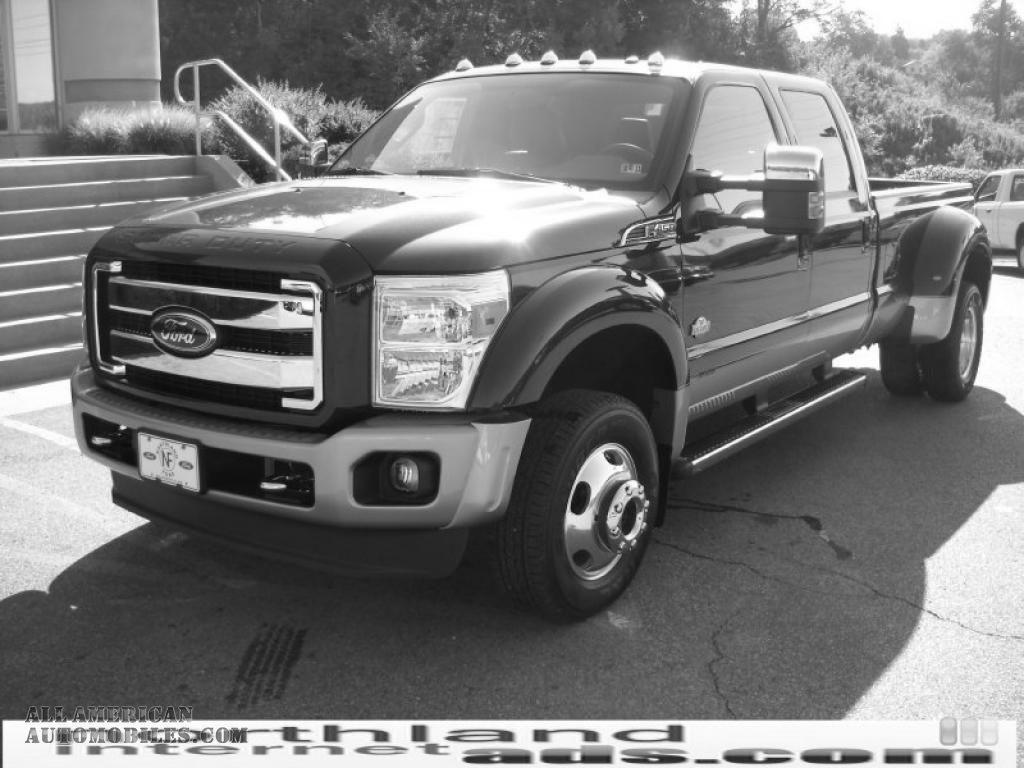car: (74, 45, 996, 627)
